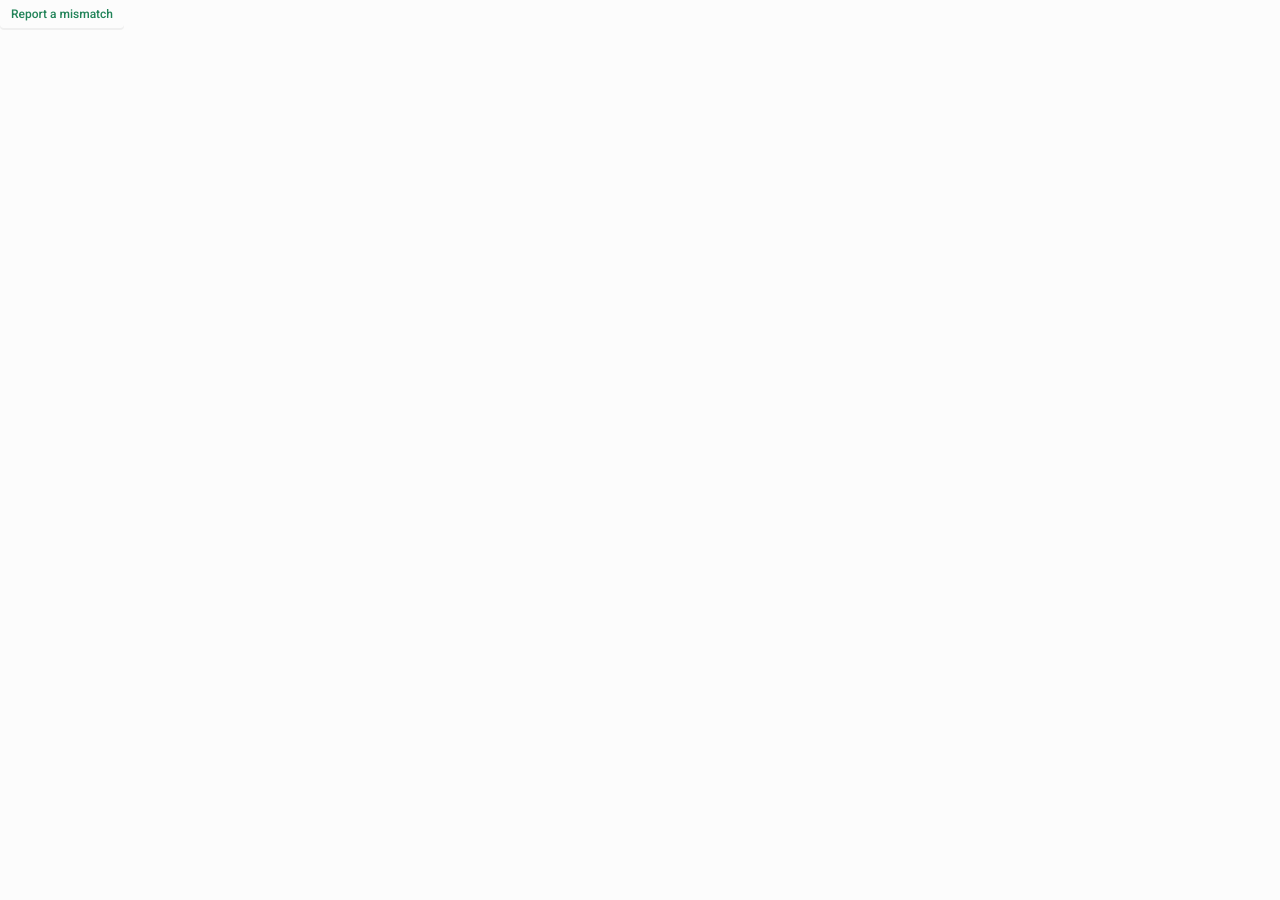
it: ReportDialog › shows both errors when field and value are missing
Click the button "Report a mismatch". click: (62, 14)
box: top-left (0, 0), bottom-right (124, 28)
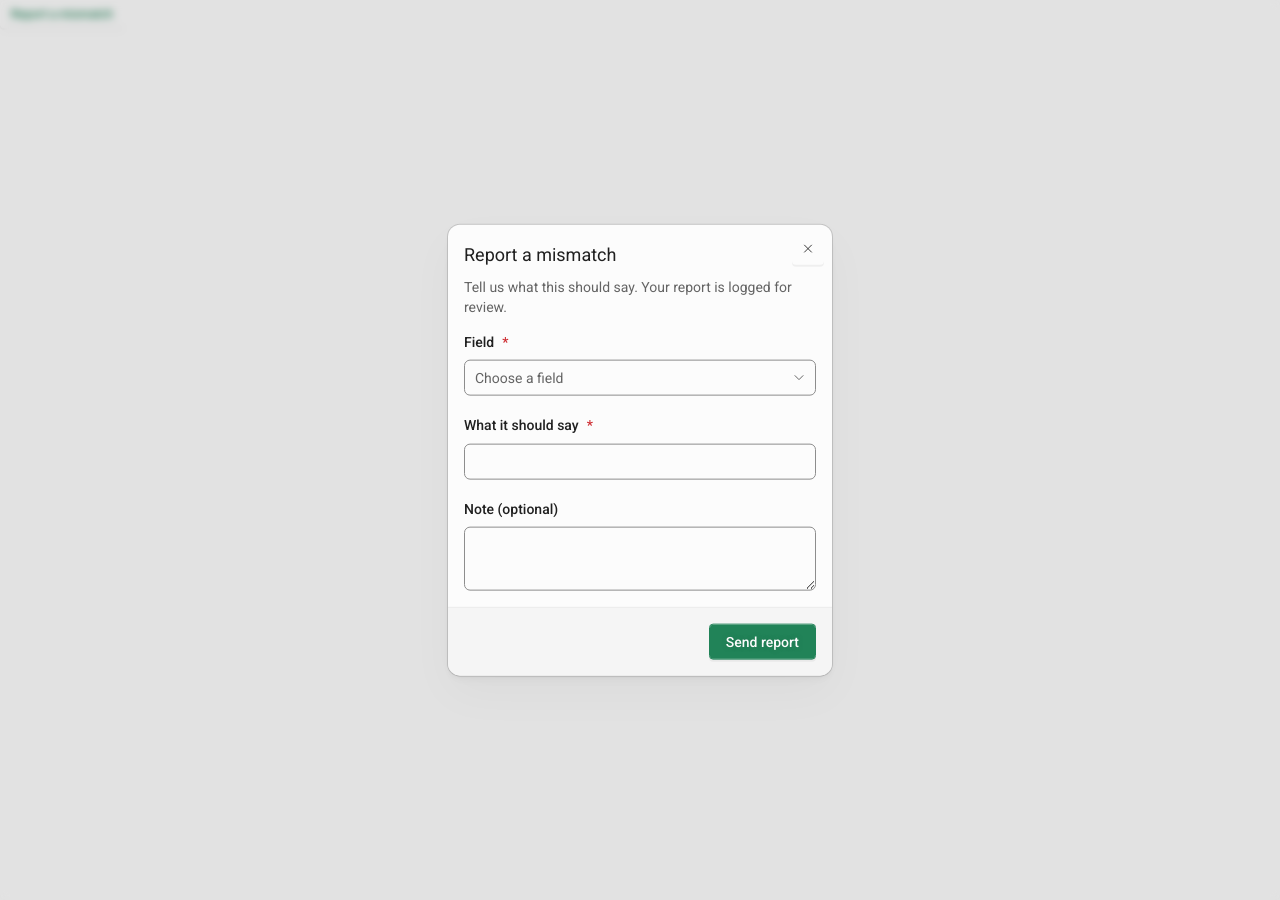
Click the button "Send report". click: (762, 641)
box: top-left (709, 623), bottom-right (816, 659)
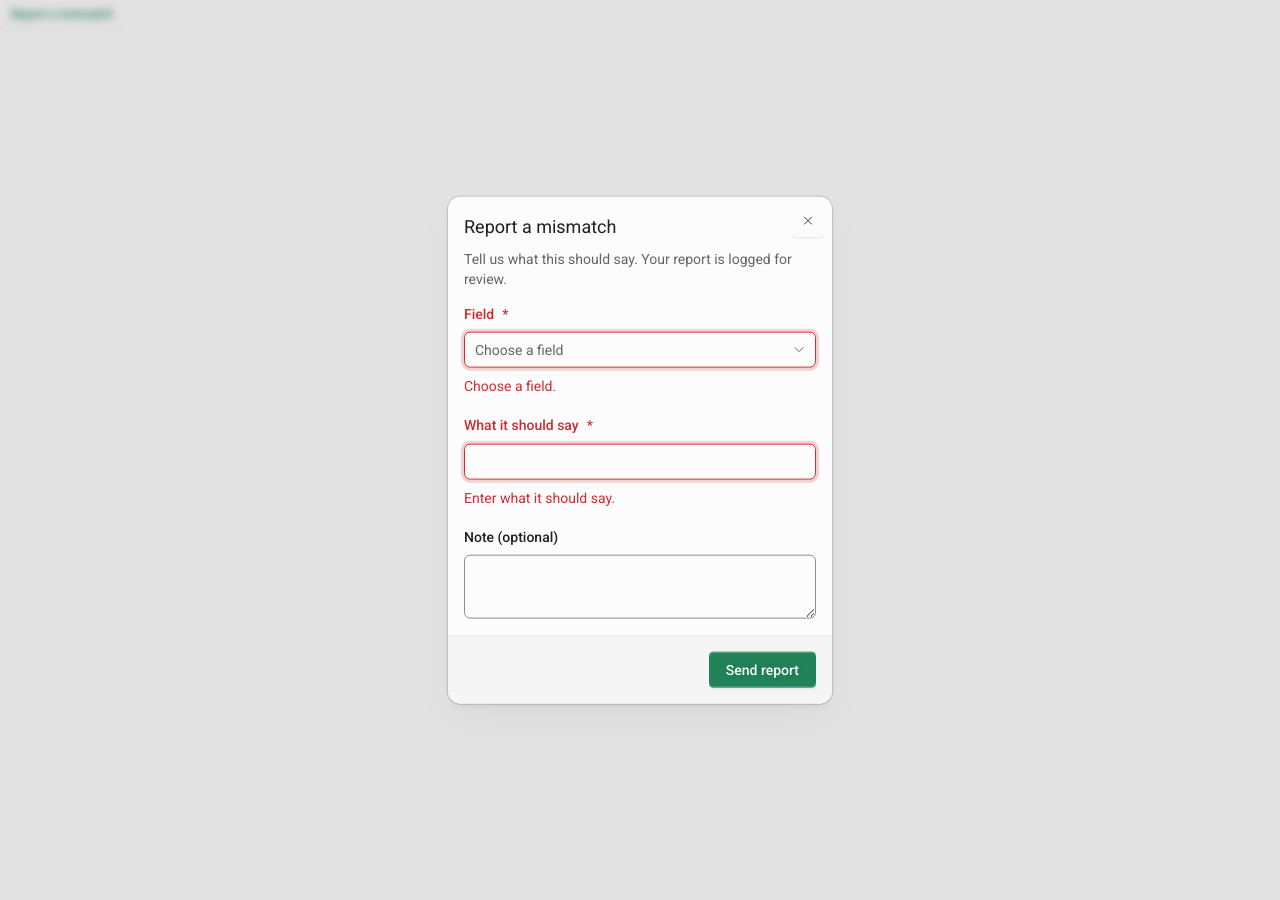
Check: the text "Choose a field." is shown, box top-left (464, 378), bottom-right (556, 394)
Check: the text "Enter what it should say." is shown, box top-left (464, 489), bottom-right (615, 505)
